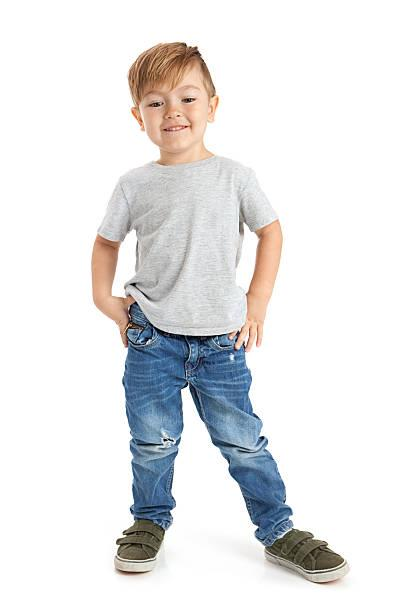Human: (87, 26, 354, 605)
